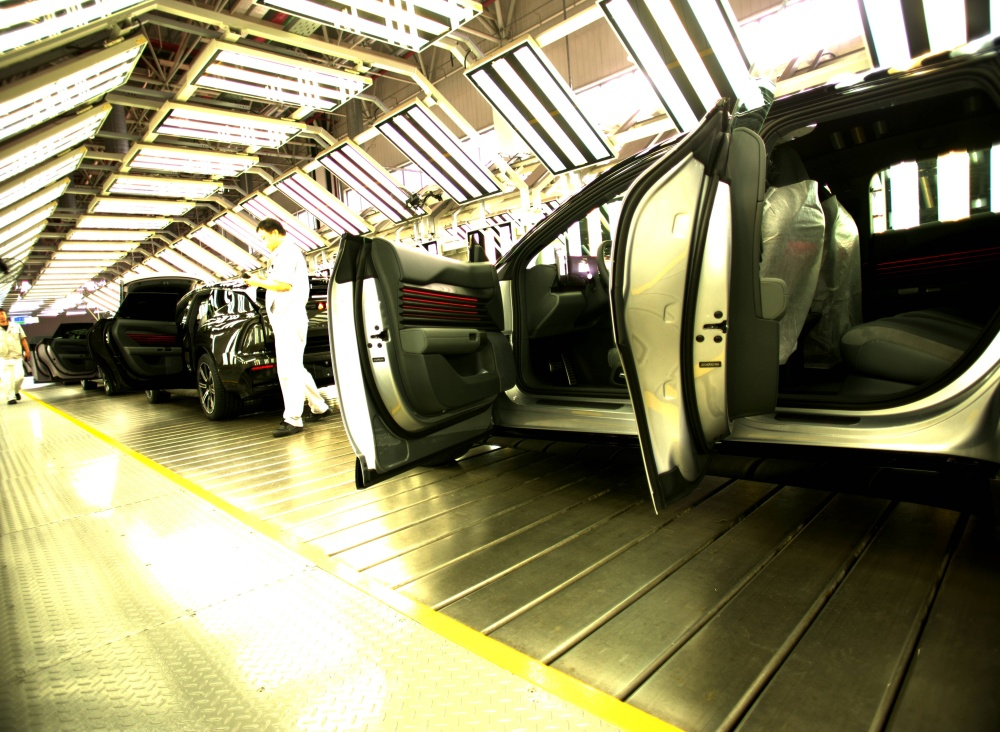armrest_color: (397, 327, 484, 355)
panel_color: (395, 278, 485, 330)
